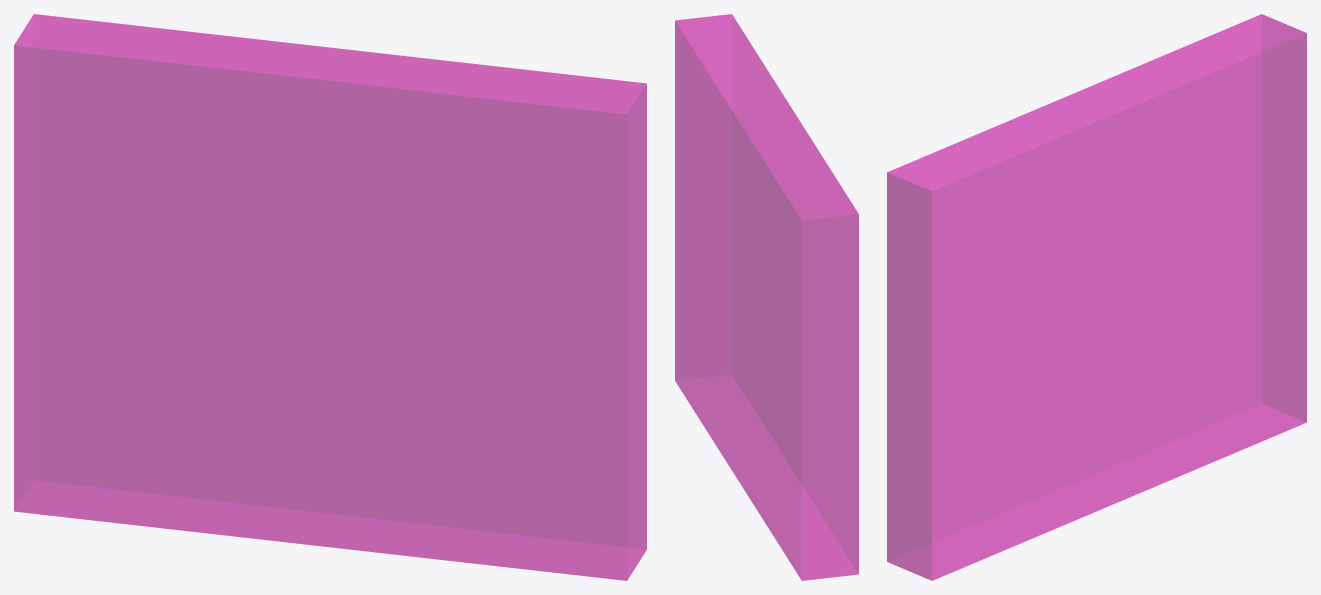
The model's file is SM_Bld_45_Wall_05_Collision.fbx.
3 renders of one model, left to right at view 1: azimuth 30°, elevation 25°; view 2: azimuth 150°, elevation 25°; view 3: azimuth 270°, elevation 25°, orthographic. The views are drawn at different scales.
Visible parts, largest first — view 1: SM_Bld_45_Wall_05_Collision; view 2: SM_Bld_45_Wall_05_Collision; view 3: SM_Bld_45_Wall_05_Collision.
Boxes of the visible parts, x1=… form: SM_Bld_45_Wall_05_Collision: x1=14, y1=14, x2=646, y2=580; SM_Bld_45_Wall_05_Collision: x1=675, y1=14, x2=858, y2=580; SM_Bld_45_Wall_05_Collision: x1=887, y1=14, x2=1306, y2=580.
Bounding box in the file's own units: 295 × 302 × 295.
